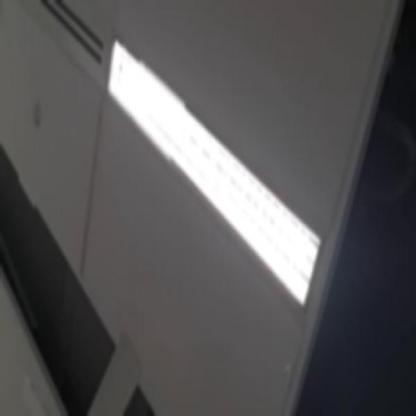light_on: (87, 22, 334, 344)
